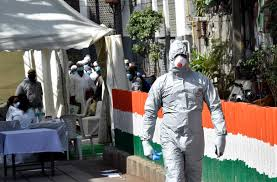mask: (166, 42, 189, 76), (26, 71, 36, 83), (12, 94, 20, 107), (124, 70, 133, 80), (75, 62, 83, 72)
